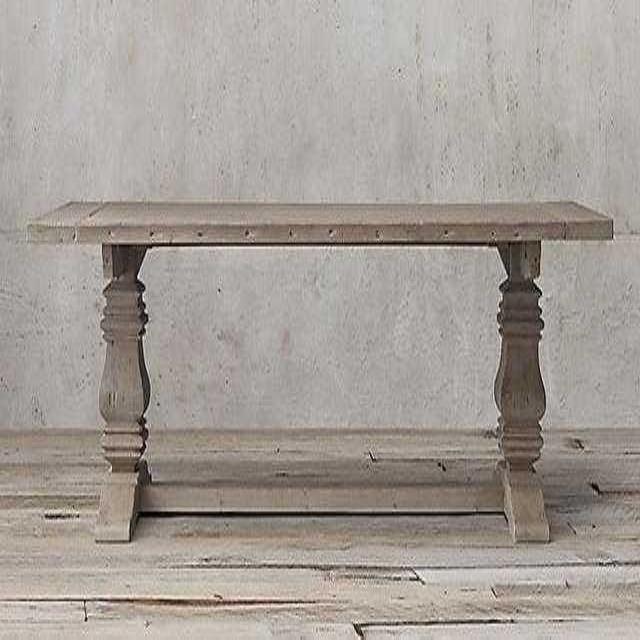obstacle: (29, 200, 612, 540)
